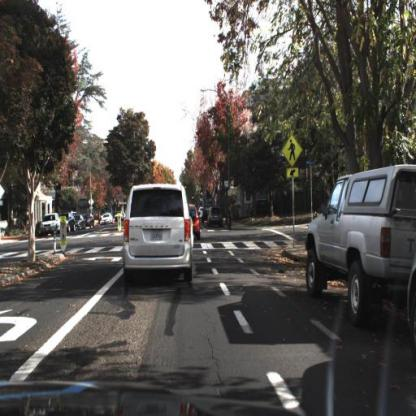car: (304, 161, 416, 320), (120, 182, 199, 288), (186, 200, 204, 246), (40, 212, 63, 237), (249, 196, 272, 220), (206, 205, 227, 229), (57, 212, 76, 237), (208, 207, 223, 230), (83, 212, 96, 232), (100, 213, 114, 229), (100, 214, 115, 227)
pedestrian: (224, 199, 234, 231), (227, 203, 235, 232)
